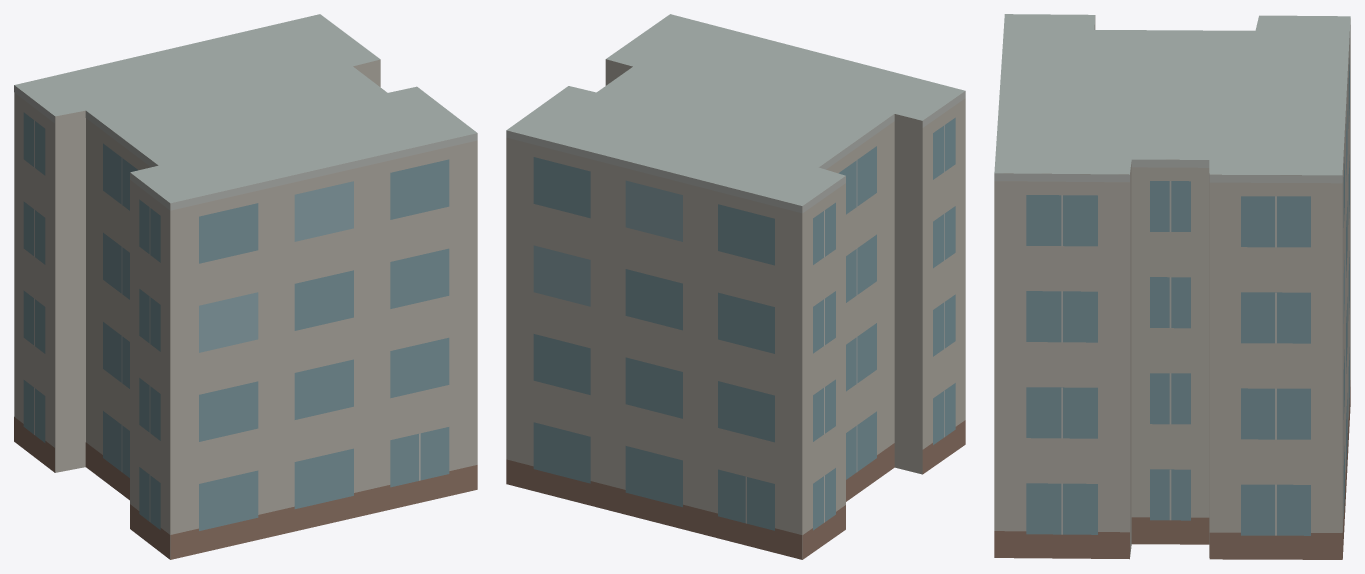
The model's file is survey-upis-32957853.glb.
The picture shows the model from 3 angles, left to right: view 1: azimuth 30°, elevation 25°; view 2: azimuth 150°, elevation 25°; view 3: azimuth 270°, elevation 25°; orthographic projection. The views are drawn at different scales.
Parts seen in each view (by area): view 1: survey-upis-32957853.tmp; view 2: survey-upis-32957853.tmp; view 3: survey-upis-32957853.tmp.
Part boxes in pixels (x1=…): survey-upis-32957853.tmp: x1=14, y1=14, x2=477, y2=559; survey-upis-32957853.tmp: x1=506, y1=14, x2=965, y2=559; survey-upis-32957853.tmp: x1=994, y1=14, x2=1350, y2=559.
Size of the model in its own units: 10.67 by 11.85 by 9.96.
